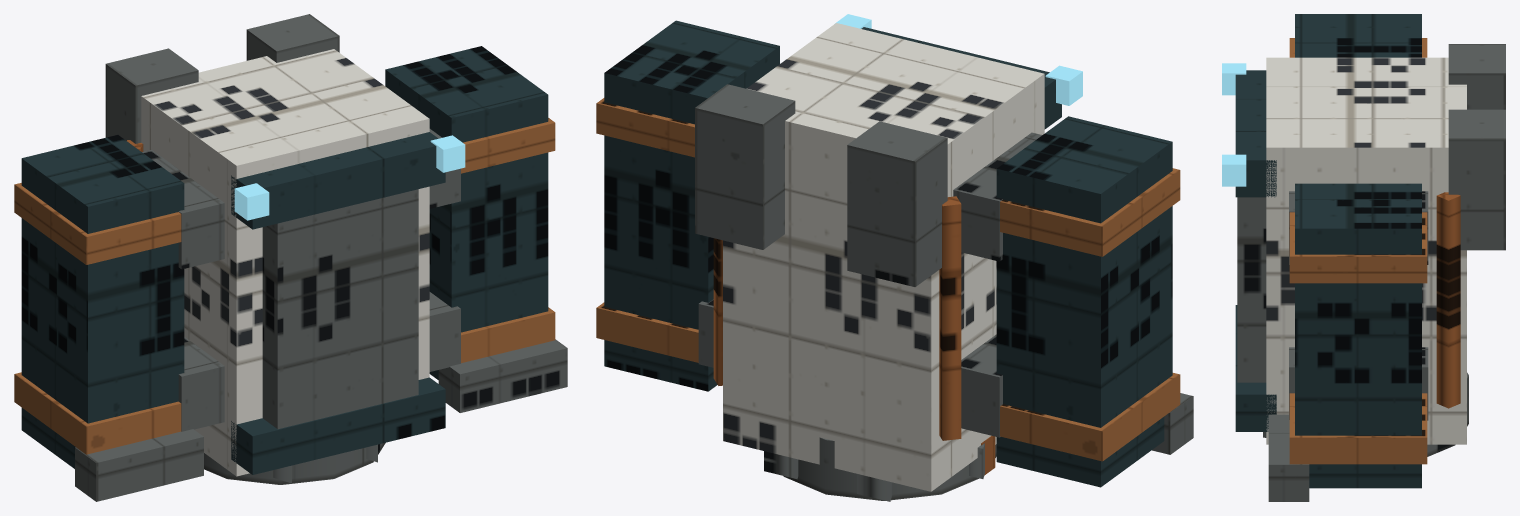
Rendered from section_freight.glb.
3 renders of one model, left to right at view 1: azimuth 30°, elevation 25°; view 2: azimuth 150°, elevation 25°; view 3: azimuth 270°, elevation 25°, orthographic. The views are drawn at different scales.
Visible parts, largest first — view 1: merged-263c43, merged-646a6c, merged-ededea, merged-ae7040, merged-a3e9ff; view 2: merged-ededea, merged-263c43, merged-646a6c, merged-ae7040, merged-a56233, merged-a3e9ff; view 3: merged-263c43, merged-ededea, merged-646a6c, merged-ae7040, merged-a56233, merged-a3e9ff.
Boxes of the visible parts, x1,y1,x2,y2 form: merged-263c43: (21,46,548,474); merged-646a6c: (75,14,567,501); merged-ededea: (141,49,429,476); merged-ae7040: (14,118,555,454); merged-a3e9ff: (234,135,465,220); merged-ededea: (723,23,1044,491); merged-263c43: (604,20,1172,487); merged-646a6c: (695,84,1193,501); merged-ae7040: (596,98,1180,461); merged-a56233: (713,196,995,475); merged-a3e9ff: (835,14,1082,105); merged-263c43: (1235,14,1421,488); merged-ededea: (1266,57,1466,444); merged-646a6c: (1237,44,1505,501); merged-ae7040: (1289,38,1427,464); merged-a56233: (1436,192,1460,408); merged-a3e9ff: (1222,63,1246,186).
Bounding box in the file's own units: 6.35 × 4.48 × 3.47.
Materials: 6 (5 with a texture image).
